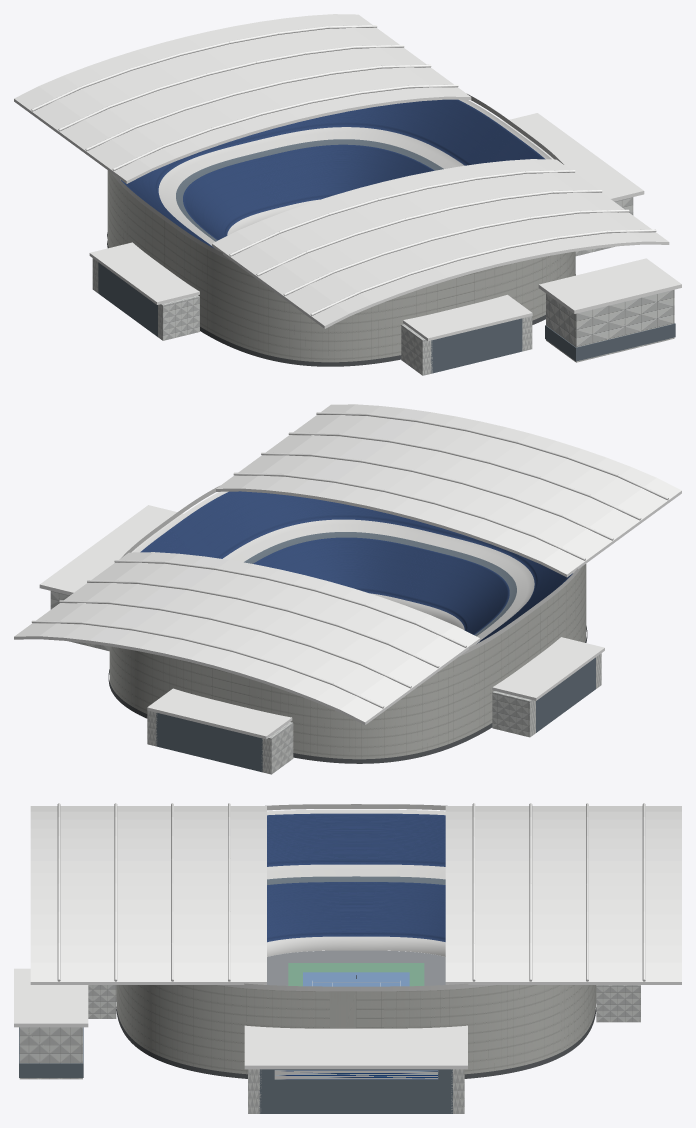
File: ao_open.glb
The picture shows the model from 3 angles, top to bottom: view 1: azimuth 30°, elevation 25°; view 2: azimuth 150°, elevation 25°; view 3: azimuth 270°, elevation 25°; orthographic projection. The views are drawn at different scales.
Visible parts, largest first — view 1: RoofS, RoofN, Bowl, Facade, PlayerPod, PlayerPodRoof, AnnexRoof, PodWRoof, PodS, PodSRoof, PodW, PlayerPodGlass (+4 smaller); view 2: RoofS, RoofN, Bowl, Facade, AnnexRoof, PodN, PodNRoof, PodWRoof, PodW, PodWFlankN, Plinth, PodNFlankW (+1 smaller); view 3: RoofS, RoofN, Facade, Bowl, AnnexRoof, AnnexGlass, PlayerPodRoof, Apron, PlayerPod, RimBand, CourtGreen, PodNFlankE (+7 smaller).
Part boxes in pixels (x1,y1,x2,y2): RoofS: [212, 159, 669, 328]; RoofN: [14, 14, 471, 183]; Bowl: [120, 99, 551, 248]; Facade: [107, 170, 575, 362]; PlayerPod: [546, 289, 674, 362]; PlayerPodRoof: [538, 258, 681, 313]; AnnexRoof: [503, 113, 644, 201]; PodWRoof: [89, 242, 199, 304]; PodS: [431, 318, 523, 373]; PodSRoof: [403, 294, 532, 341]; PodW: [98, 262, 157, 336]; PlayerPodGlass: [545, 323, 675, 361]; RoofS: [216, 404, 681, 577]; RoofN: [14, 552, 479, 724]; Bowl: [134, 491, 574, 643]; Facade: [109, 564, 586, 759]; AnnexRoof: [39, 505, 183, 595]; PodN: [156, 713, 262, 772]; PodNRoof: [147, 688, 292, 739]; PodWRoof: [492, 637, 604, 700]; PodW: [536, 657, 595, 732]; PodWFlankN: [492, 691, 535, 737]; Plinth: [108, 626, 587, 763]; PodNFlankW: [261, 722, 293, 774]; RoofS: [30, 806, 266, 984]; RoofN: [445, 806, 681, 984]; Facade: [116, 985, 596, 1074]; Bowl: [267, 809, 445, 956]; AnnexRoof: [244, 1025, 467, 1069]; AnnexGlass: [259, 1069, 452, 1113]; PlayerPodRoof: [14, 968, 88, 1027]; Apron: [267, 950, 445, 985]; PlayerPod: [19, 1027, 82, 1079]; RimBand: [218, 804, 494, 991]; CourtGreen: [288, 963, 424, 986]; PodNFlankE: [596, 985, 640, 1022].
Size of the model in its own units: 152 by 35.69 by 180.
11 materials, 4 textured.
